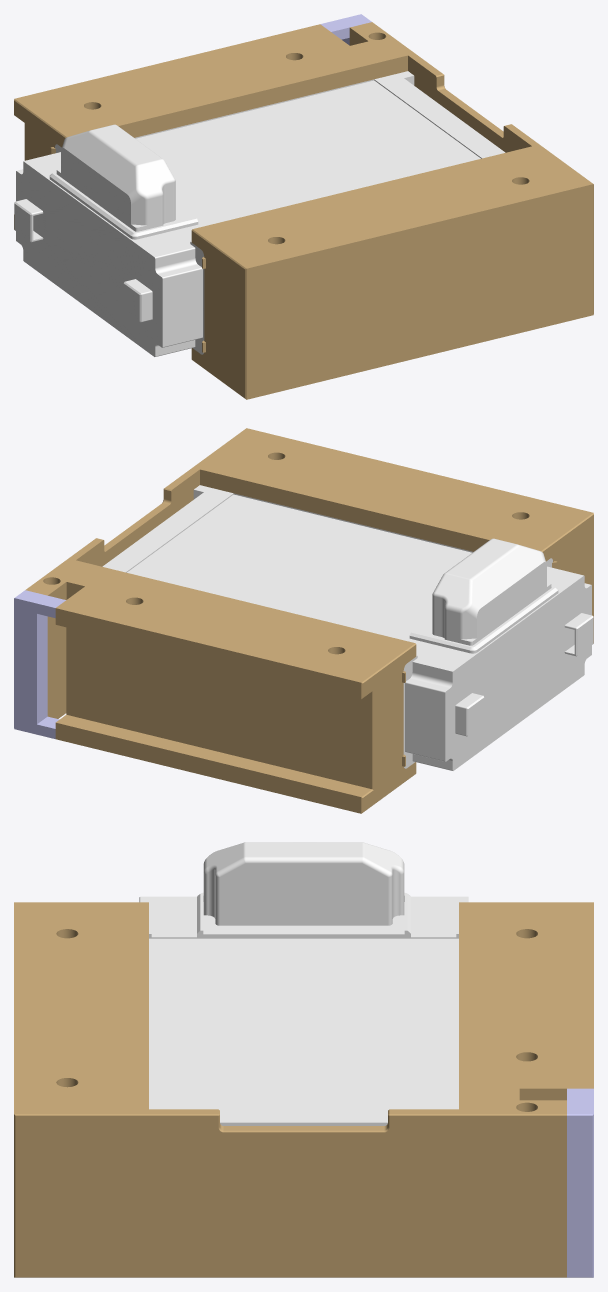
File: battery_inner_set v1.fbx
3 views of the same model, one above another, from view 1: azimuth 30°, elevation 25°; view 2: azimuth 150°, elevation 25°; view 3: azimuth 270°, elevation 25° (orthographic). The views are drawn at different scales.
Visible parts, largest first — view 1: Body3, Body1, Body2, Body4; view 2: Body3, Body1, Body2, Body4; view 3: Body3, Body1, Body2, Body4.
Part boxes in pixels (left/top/right/bottom): Body3: left=14, top=22, right=593, bottom=334; Body1: left=14, top=71, right=505, bottom=356; Body2: left=14, top=214, right=593, bottom=399; Body4: left=320, top=14, right=371, bottom=45; Body3: left=25, top=428, right=593, bottom=740; Body1: left=102, top=485, right=593, bottom=770; Body2: left=47, top=579, right=593, bottom=813; Body4: left=14, top=590, right=65, bottom=738; Body3: left=14, top=902, right=593, bottom=1196; Body1: left=139, top=842, right=468, bottom=1125; Body2: left=14, top=1196, right=566, bottom=1277; Body4: left=567, top=1088, right=593, bottom=1277.
Size of the model in its own units: 429 by 175 by 430.
